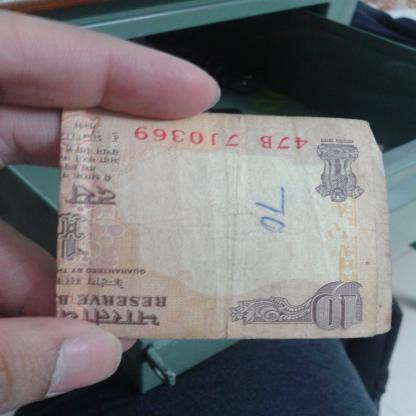Old10Front: (53, 109, 394, 341)
